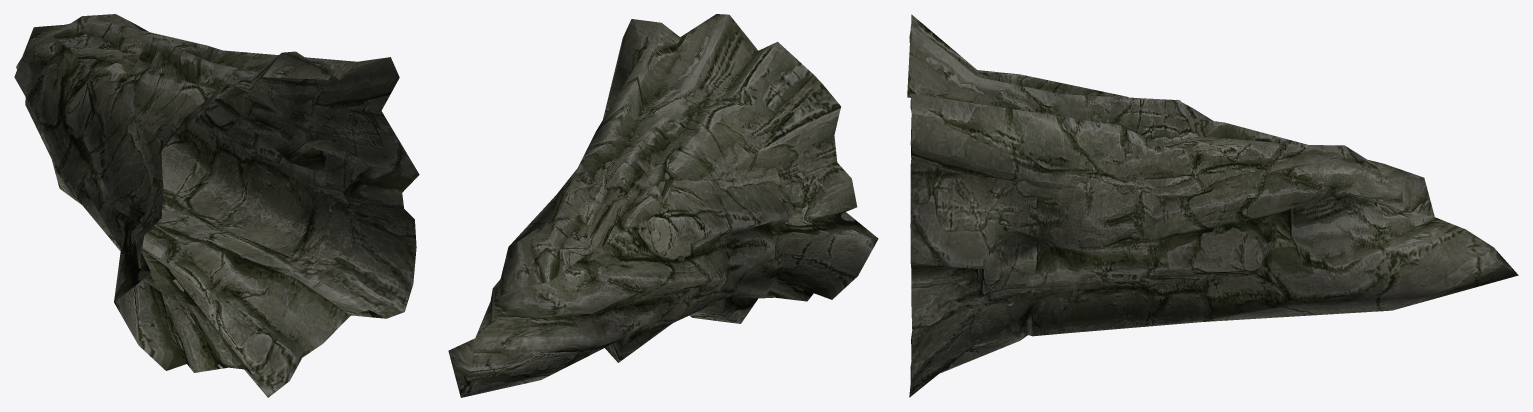
Rendered from TI_CLiff_02_d_LOD_02.fbx.
3 renders of one model, left to right at view 1: azimuth 30°, elevation 25°; view 2: azimuth 150°, elevation 25°; view 3: azimuth 270°, elevation 25°, orthographic. The views are drawn at different scales.
Visible parts, largest first — view 1: TI_CLiff_02_d_LOD_02; view 2: TI_CLiff_02_d_LOD_02; view 3: TI_CLiff_02_d_LOD_02.
Boxes of the visible parts, bbox=[...] form: TI_CLiff_02_d_LOD_02: bbox=[14, 14, 419, 397]; TI_CLiff_02_d_LOD_02: bbox=[448, 14, 878, 397]; TI_CLiff_02_d_LOD_02: bbox=[907, 14, 1518, 397].
Size of the model in its own units: 12.9 by 13.83 by 20.86.
